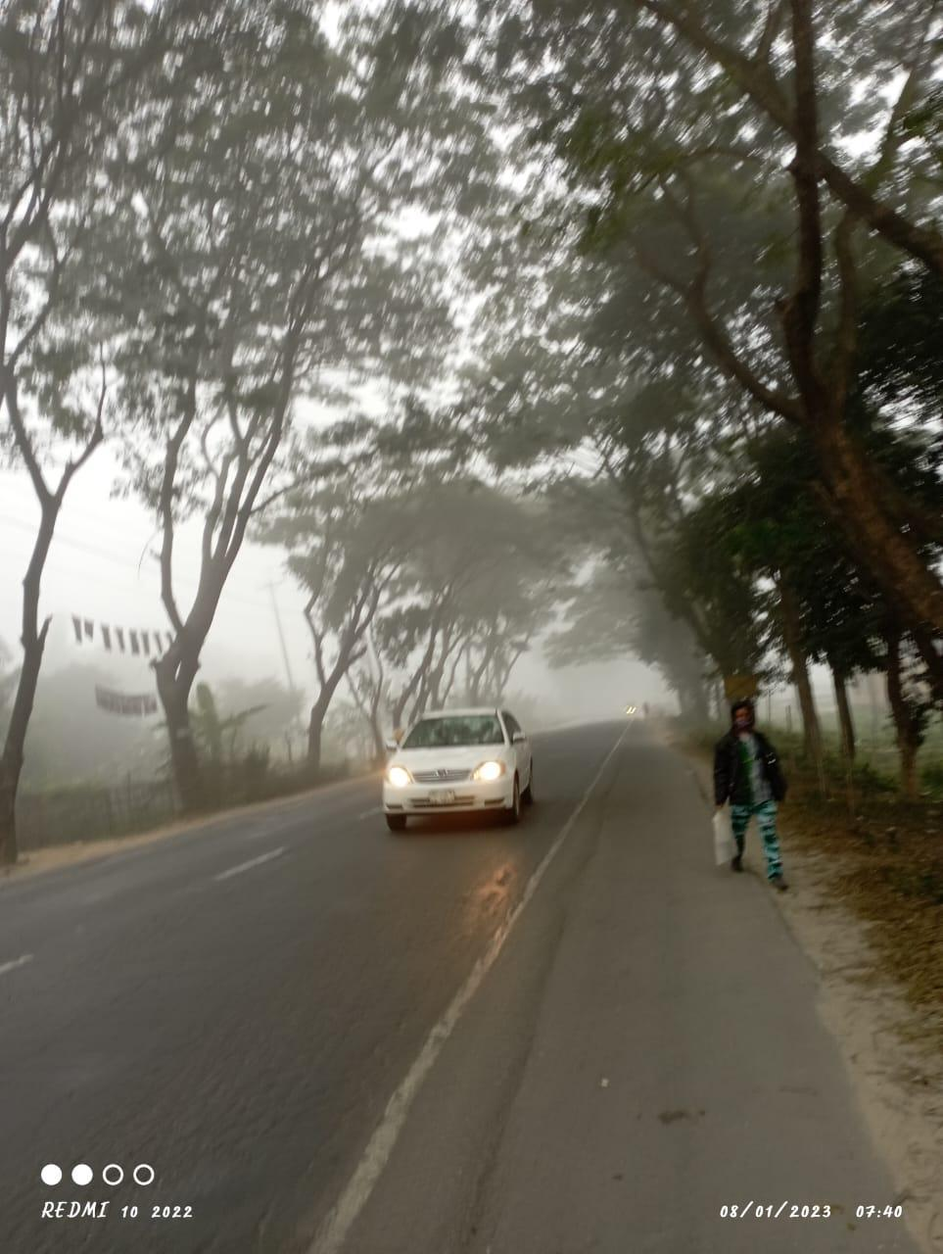Car: (369, 700, 535, 822)
